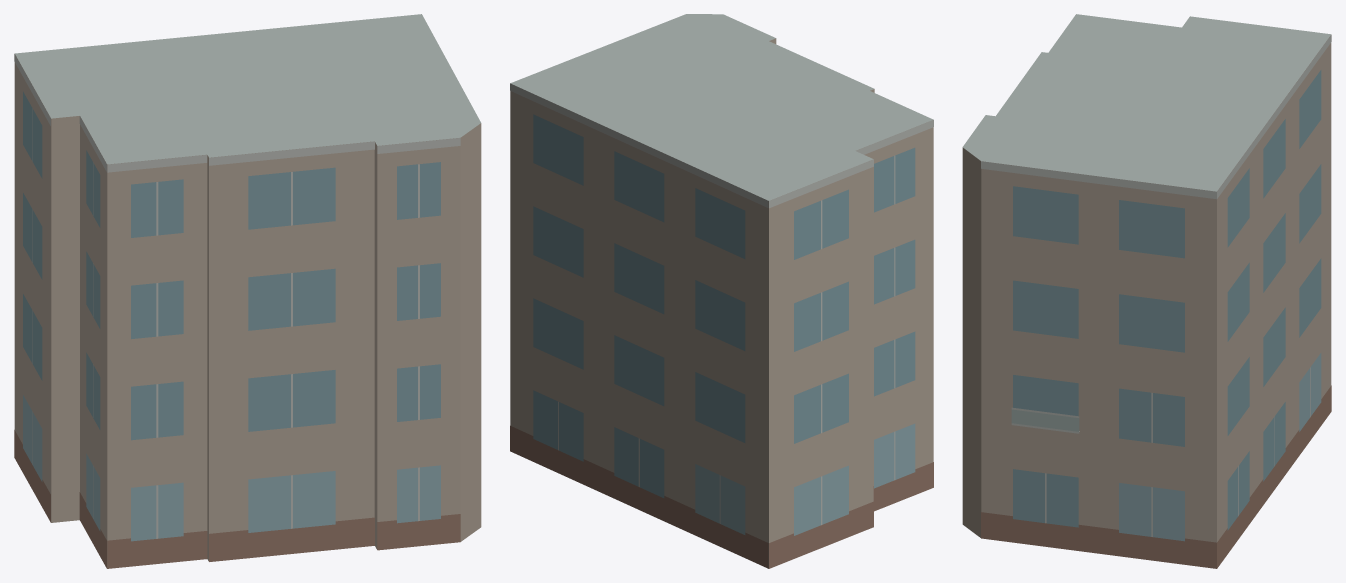
Rendered from survey-upis-32604788.glb.
3 renders of one model, left to right at view 1: azimuth 30°, elevation 25°; view 2: azimuth 150°, elevation 25°; view 3: azimuth 270°, elevation 25°, orthographic. The views are drawn at different scales.
Parts seen in each view (by area): view 1: survey-upis-32604788.tmp; view 2: survey-upis-32604788.tmp; view 3: survey-upis-32604788.tmp.
Part boxes in pixels (x1,y1,x2,y2): survey-upis-32604788.tmp: (14, 14, 481, 568); survey-upis-32604788.tmp: (510, 14, 933, 568); survey-upis-32604788.tmp: (962, 14, 1331, 568).
Size of the model in its own units: 12.18 by 12.05 by 10.69.
